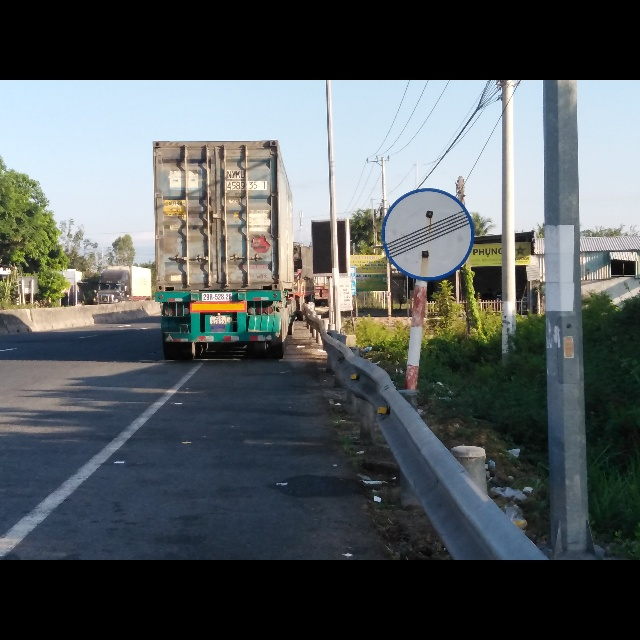Hết tất cả các lệnh cấm: (378, 186, 478, 282)
